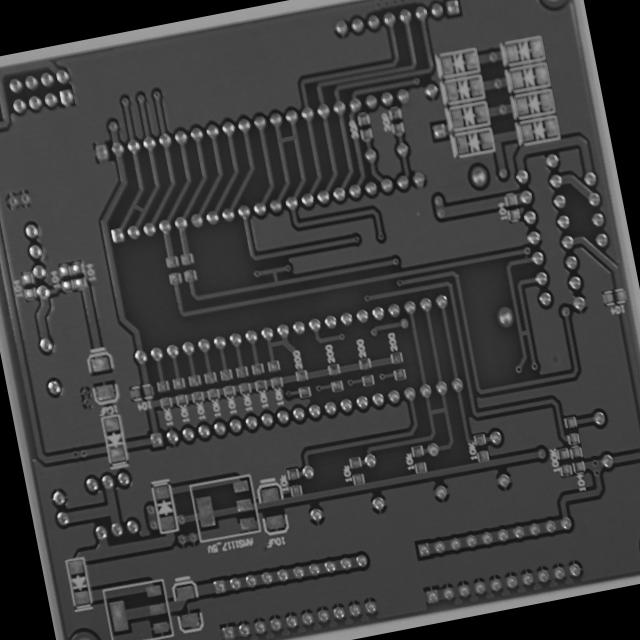short: (272, 124, 304, 155), (262, 328, 292, 354), (425, 400, 454, 424), (127, 197, 151, 223), (514, 323, 534, 344)
